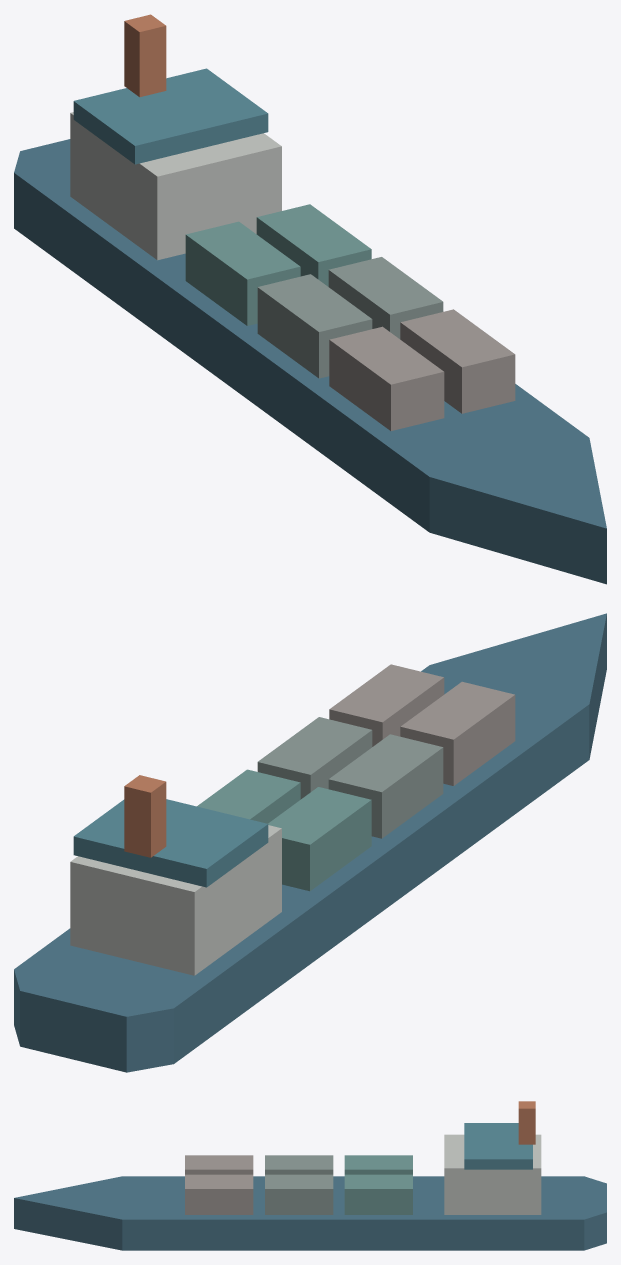
The model's file is vessel.gltf.
The picture shows the model from 3 angles, top to bottom: view 1: azimuth 30°, elevation 25°; view 2: azimuth 150°, elevation 25°; view 3: azimuth 270°, elevation 25°; orthographic projection. The views are drawn at different scales.
Size of the model in its own units: 18 by 24 by 104.
